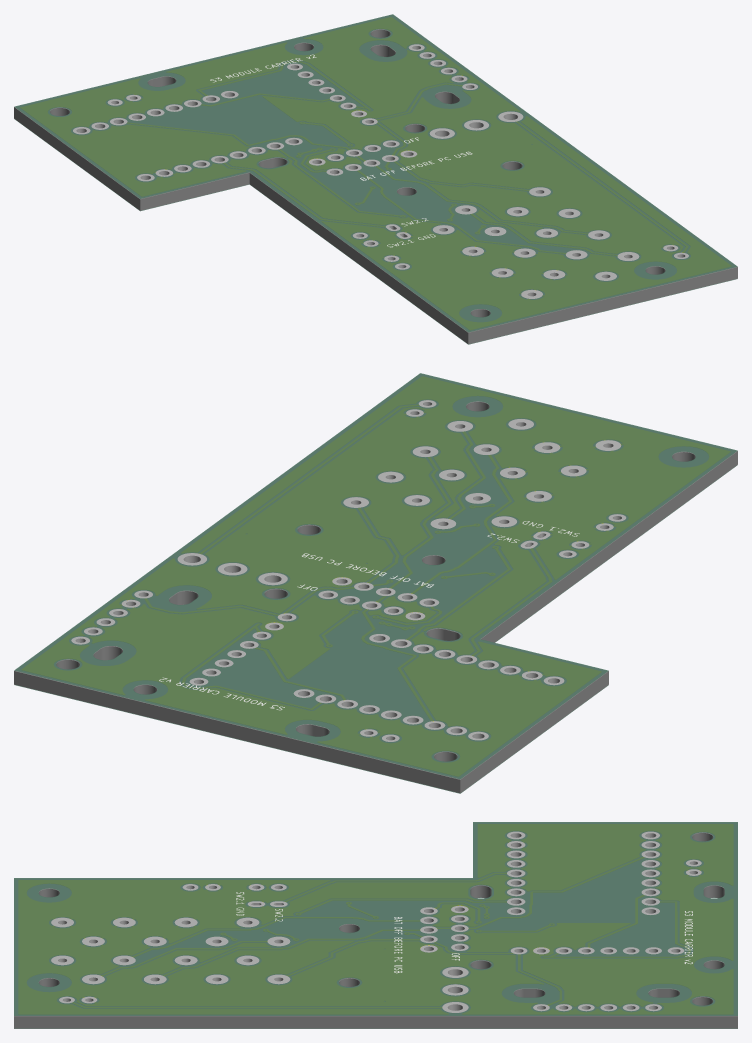
File: gunmouse-final.glb
The picture shows the model from 3 angles, top to bottom: view 1: azimuth 30°, elevation 25°; view 2: azimuth 150°, elevation 25°; view 3: azimuth 270°, elevation 25°; orthographic projection. The views are drawn at different scales.
Visible parts, largest first — view 1: =>[0:1:1:6], =>[0:1:1:2], =>[0:1:1:8], =>[0:1:1:3], =>[0:1:1:7], =>[0:1:1:5]; view 2: =>[0:1:1:6], =>[0:1:1:2], =>[0:1:1:8], =>[0:1:1:3], =>[0:1:1:7], =>[0:1:1:5]; view 3: =>[0:1:1:6], =>[0:1:1:2], =>[0:1:1:8], =>[0:1:1:3], =>[0:1:1:7], =>[0:1:1:5].
Boxes of the visible parts, bbox=[...] form: =>[0:1:1:6]: bbox=[14, 14, 737, 332]; =>[0:1:1:2]: bbox=[21, 17, 730, 329]; =>[0:1:1:8]: bbox=[14, 15, 737, 344]; =>[0:1:1:3]: bbox=[73, 44, 688, 298]; =>[0:1:1:7]: bbox=[14, 119, 736, 344]; =>[0:1:1:5]: bbox=[210, 54, 472, 247]; =>[0:1:1:6]: bbox=[14, 373, 737, 779]; =>[0:1:1:2]: bbox=[22, 377, 729, 775]; =>[0:1:1:8]: bbox=[14, 374, 737, 793]; =>[0:1:1:3]: bbox=[71, 400, 626, 741]; =>[0:1:1:7]: bbox=[14, 465, 737, 793]; =>[0:1:1:5]: bbox=[159, 521, 579, 710]; =>[0:1:1:6]: bbox=[14, 822, 737, 1015]; =>[0:1:1:2]: bbox=[19, 824, 732, 1013]; =>[0:1:1:8]: bbox=[14, 823, 737, 1028]; =>[0:1:1:3]: bbox=[51, 831, 701, 1012]; =>[0:1:1:7]: bbox=[14, 897, 737, 1028]; =>[0:1:1:5]: bbox=[236, 892, 692, 973].
Size of the model in its own units: 0.052 by 0.00163 by 0.082.
